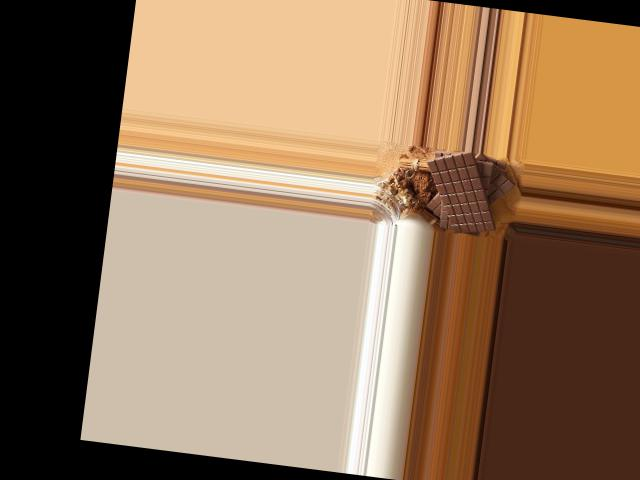chocolate: (414, 146, 505, 235)
